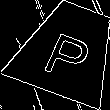P_N: (39, 20, 97, 80)
